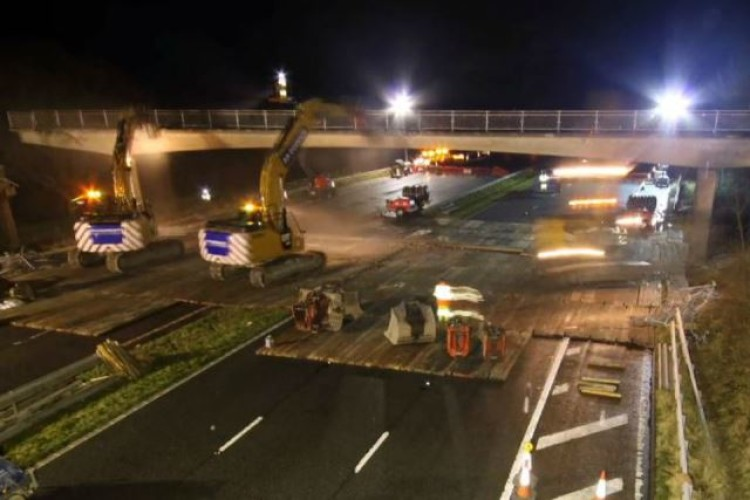bridge: (5, 105, 745, 172)
